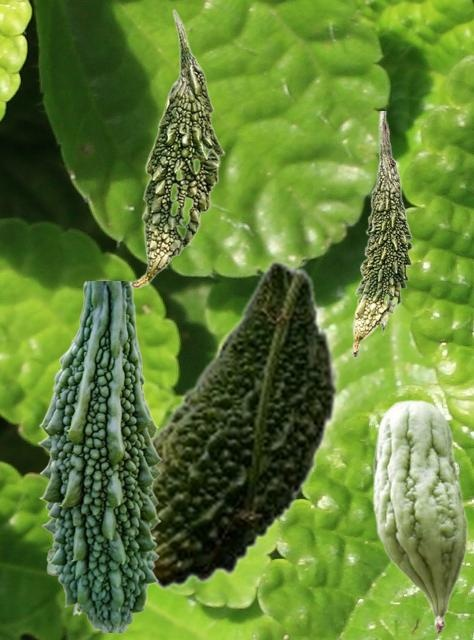ampalaya: (149, 259, 339, 589), (37, 281, 161, 631), (129, 8, 224, 287), (372, 399, 467, 633), (352, 111, 412, 358)
